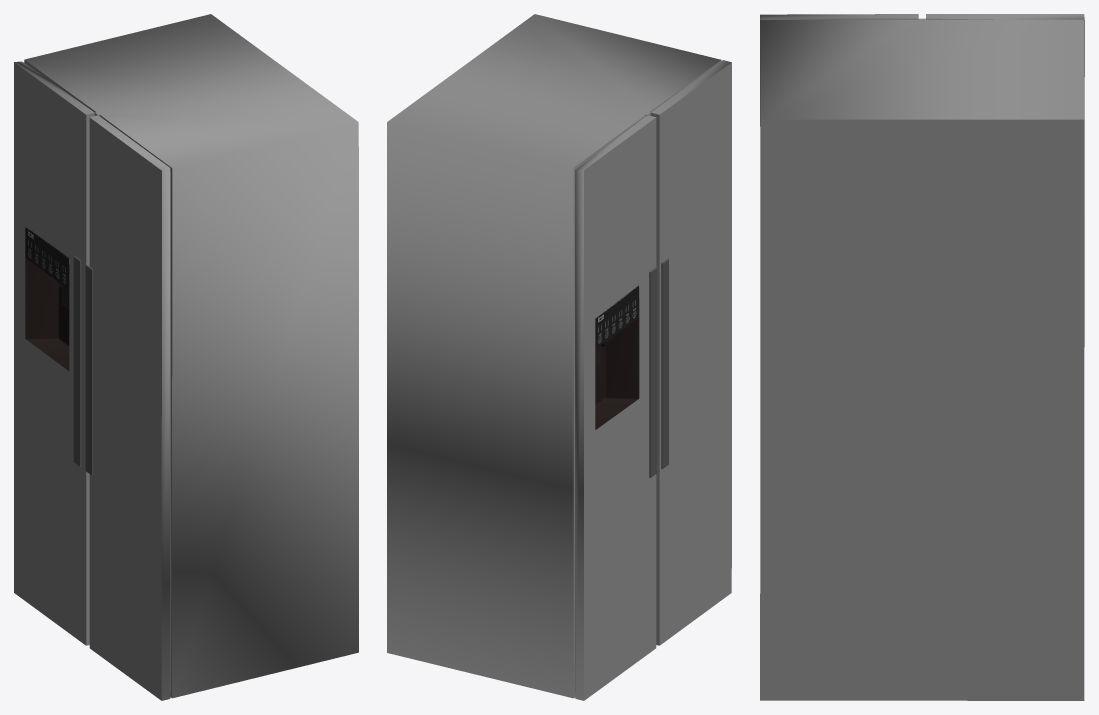
File: fridge_steel.glb
3 renders of one model, left to right at view 1: azimuth 30°, elevation 25°; view 2: azimuth 150°, elevation 25°; view 3: azimuth 270°, elevation 25°, orthographic. The views are drawn at different scales.
Visible parts, largest first — view 1: defaultMaterial (×4); view 2: defaultMaterial (×4); view 3: defaultMaterial.
Part boxes in pixels (x1,y1,x2,y2): defaultMaterial (×4): [14, 14, 358, 700]; defaultMaterial (×4): [387, 14, 731, 700]; defaultMaterial: [760, 14, 1084, 700].
Size of the model in its own units: 0.7314 by 1.85 by 0.9361.
Materials: 4 (3 with a texture image).
